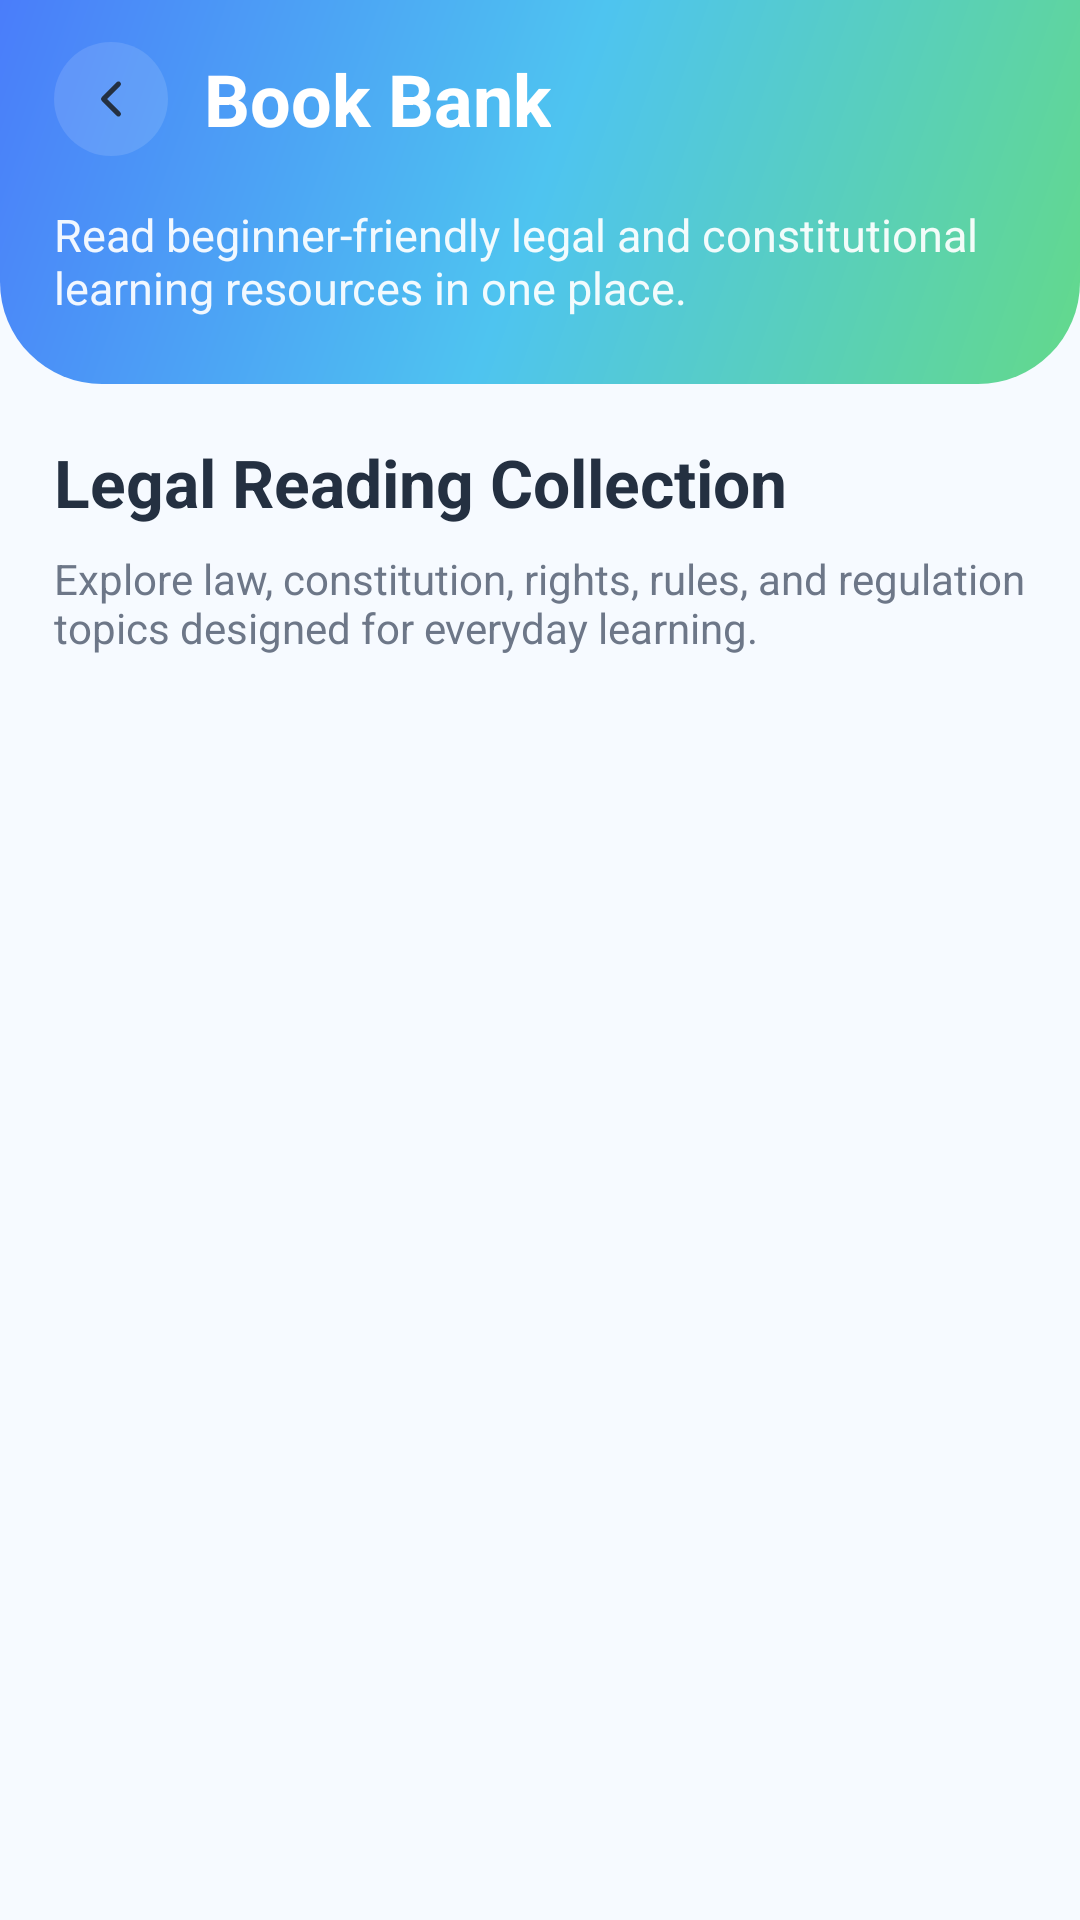

Named icons in this screenshot (1080x1920) and their bounding boxes, (left=x1, top=y1, right=x2, bottom=y2):
back: (left=101, top=81, right=121, bottom=117)
